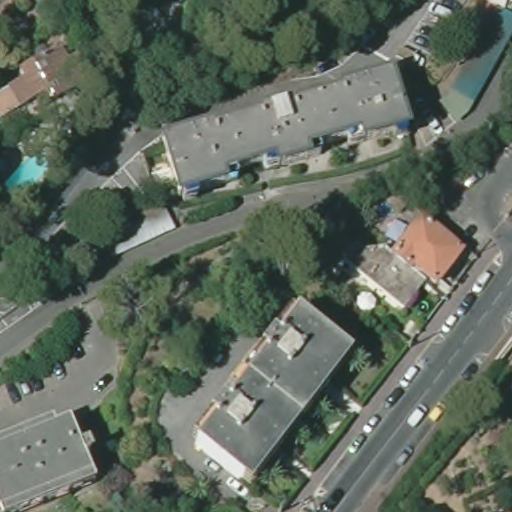pool: (1, 150, 48, 195)
